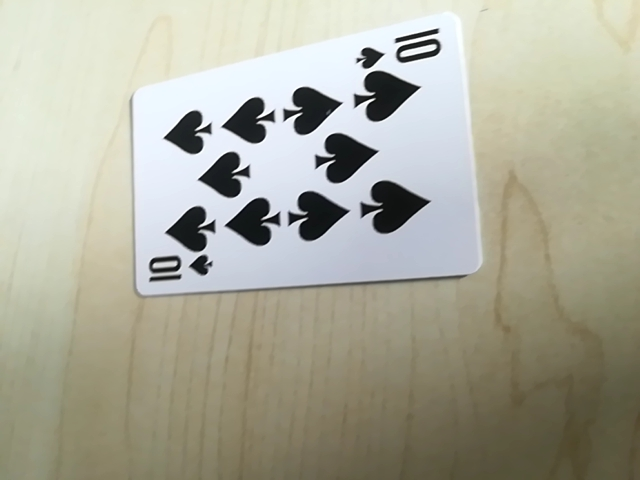ht 10: (354, 22, 455, 71), (139, 248, 217, 295)
